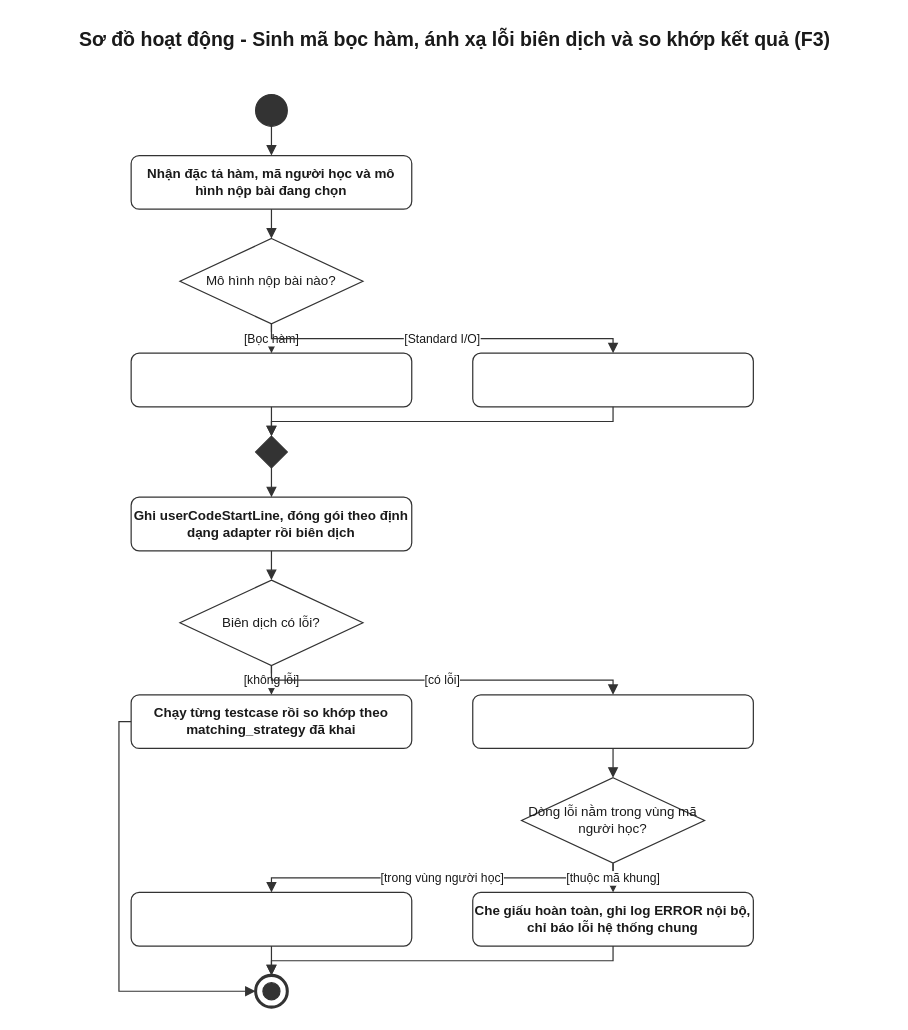
Some shapes in this 908 by 1030 pixel diagram are drawn without their labels. The shapes that lost their labels are listed below. From the top down, each one's centre as x and y in pixels, then its label:
At (271,379): "Sinh khung đọc dữ liệu vào, gọi hàm người học, in kết quả theo lược đồ kiểu".
At (612,379): "Ghép mã người học vào khung biên dịch tối thiểu, không sinh logic đọc ghi".
At (612,721): "Trừ userCodeStartLine trừ 1 để quy đổi ra số dòng trong mã người học".
At (271,918): "Trả nguyên văn thông điệp compiler, thay số dòng bằng số đã quy đổi".
